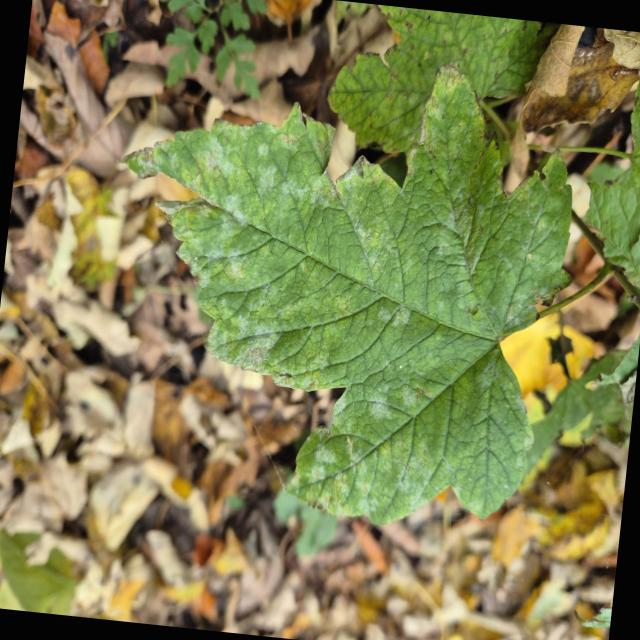powdery_mildew: (128, 66, 570, 523)
